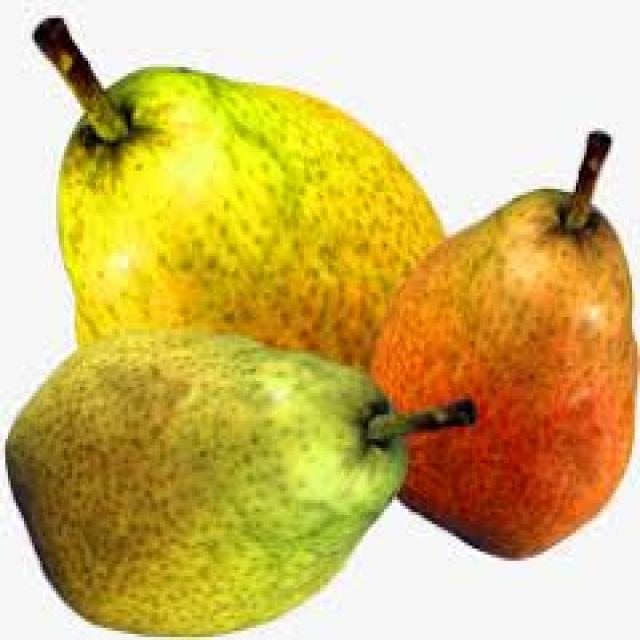organic waste: (29, 12, 446, 369), (5, 329, 472, 637), (366, 128, 638, 558)
